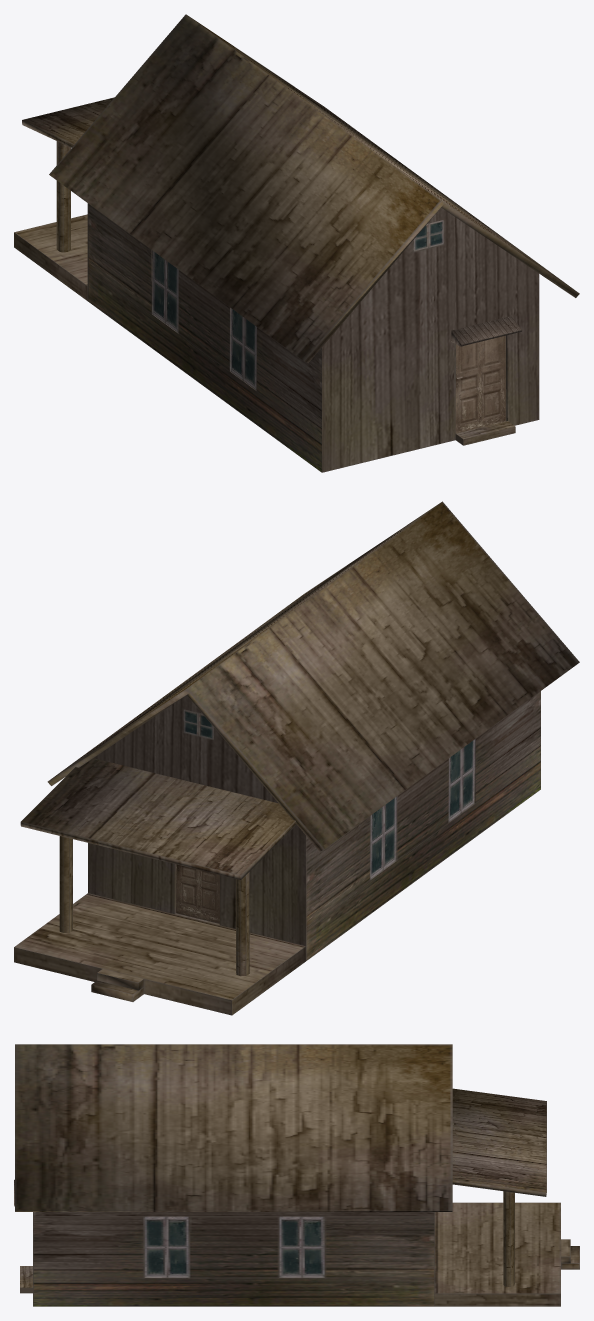
The model's file is house.gltf.
The picture shows the model from 3 angles, top to bottom: view 1: azimuth 30°, elevation 25°; view 2: azimuth 150°, elevation 25°; view 3: azimuth 270°, elevation 25°; orthographic projection. The views are drawn at different scales.
Parts seen in each view (by area): view 1: farmhouse_obj; view 2: farmhouse_obj; view 3: farmhouse_obj.
Boxes of the visible parts, <box> form: farmhouse_obj: <box>14,14,579,472</box>; farmhouse_obj: <box>14,501,579,1015</box>; farmhouse_obj: <box>14,1044,579,1306</box>.
Size of the model in its own units: 24.28 by 21.28 by 50.36.
1 material, 1 textured.
